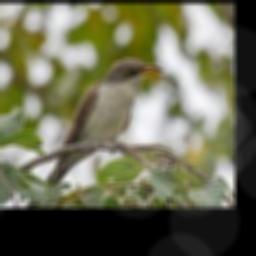Cuckoo: (25, 58, 164, 208)
